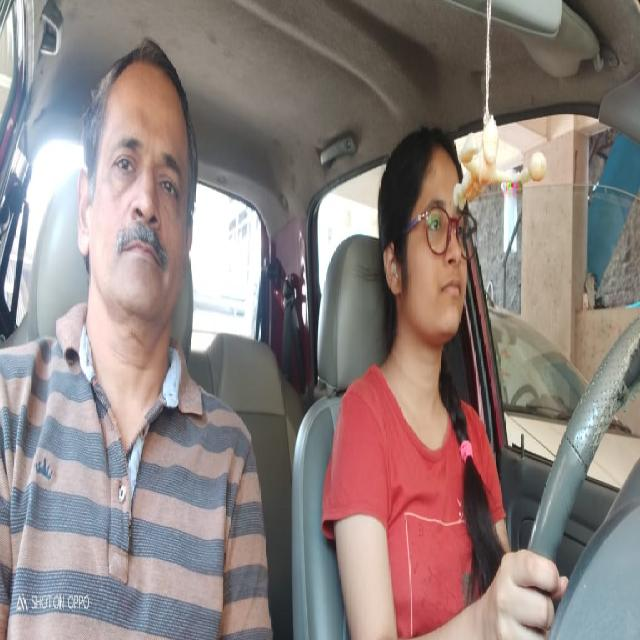person: (76, 37, 198, 339), (376, 121, 476, 378)
